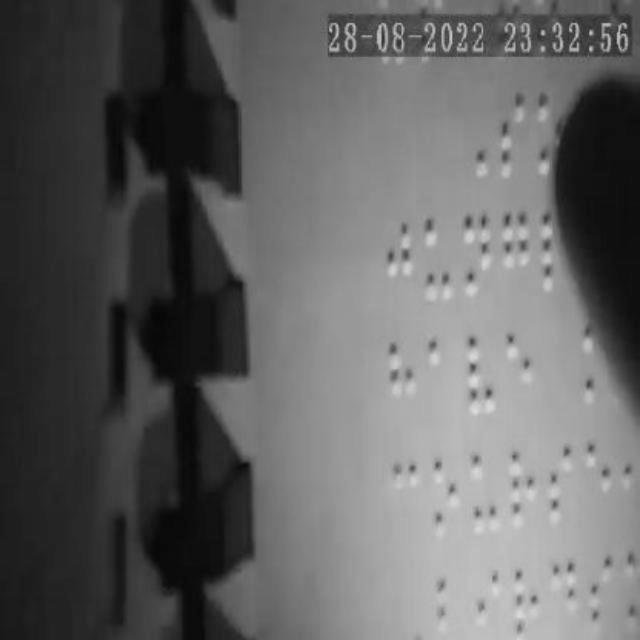braiile: (492, 89, 532, 185), (421, 212, 457, 304), (461, 208, 497, 296), (540, 210, 576, 298), (548, 550, 584, 638), (468, 449, 504, 536), (500, 209, 536, 295), (474, 556, 510, 640), (382, 214, 414, 304), (508, 446, 540, 536), (547, 437, 577, 533), (388, 339, 420, 428), (512, 558, 546, 640), (585, 437, 615, 527), (587, 552, 619, 636), (506, 328, 536, 416), (430, 458, 462, 540), (466, 337, 498, 418), (393, 455, 423, 539), (428, 336, 460, 414), (584, 321, 614, 402)
